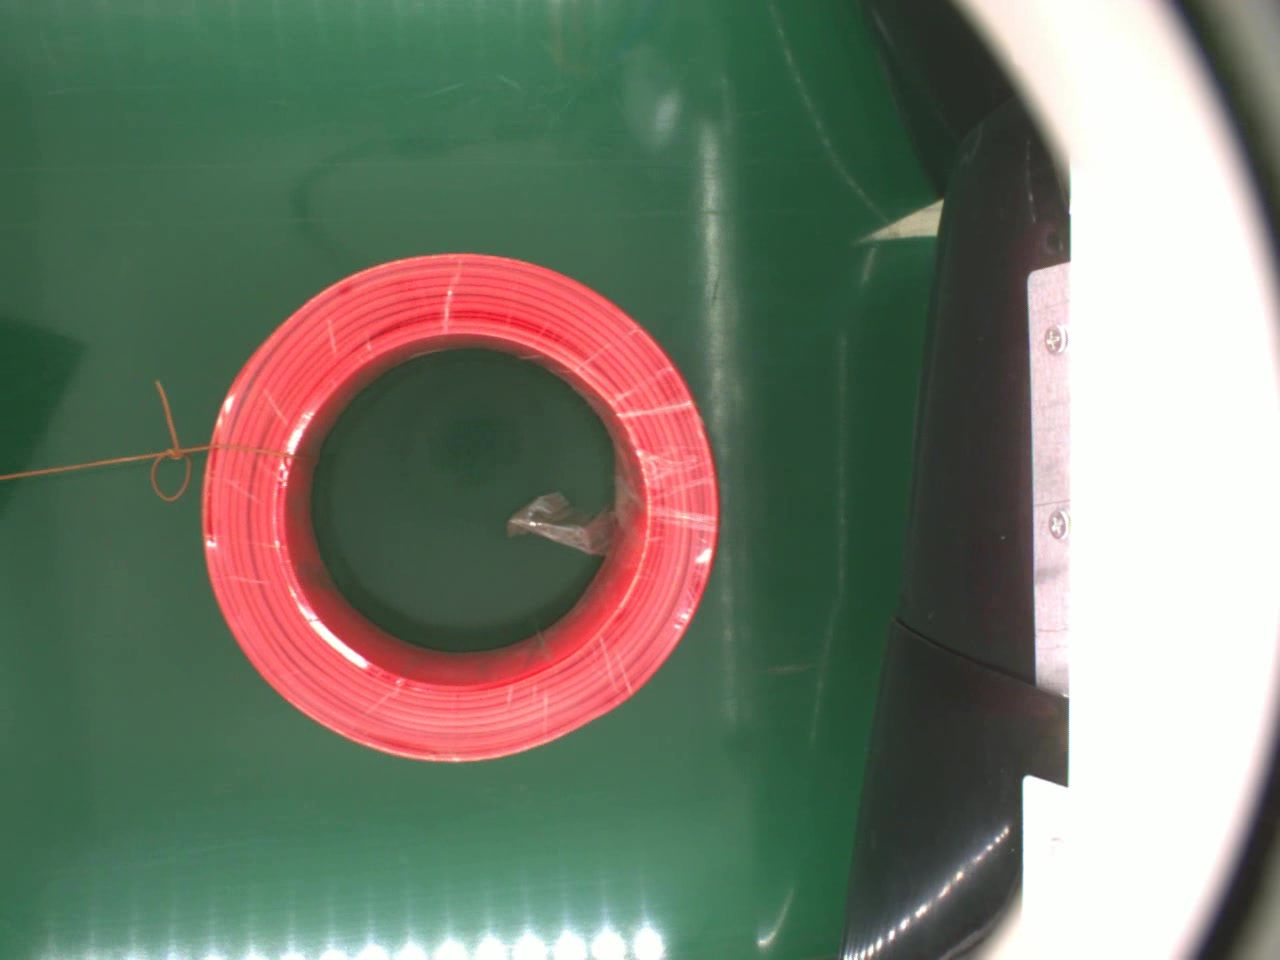red: (198, 243, 723, 768)
